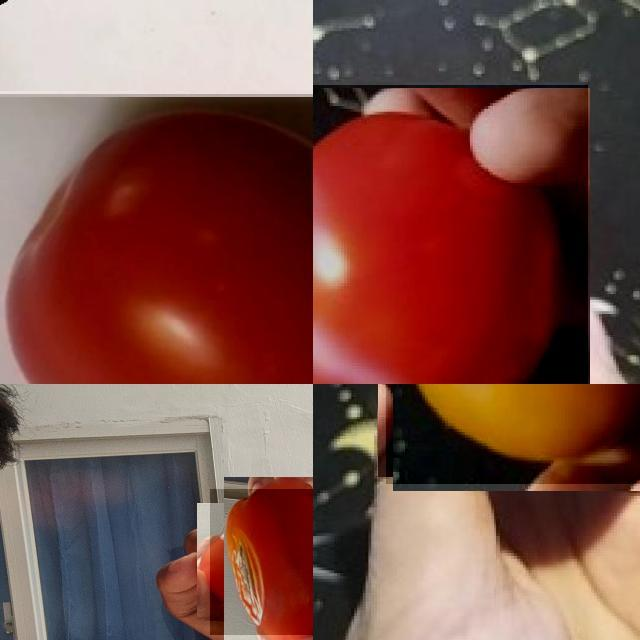Fresh Tomato: (0, 93, 313, 384), (313, 84, 587, 384), (385, 384, 640, 484)
Rotten Tomato: (210, 489, 313, 634)
